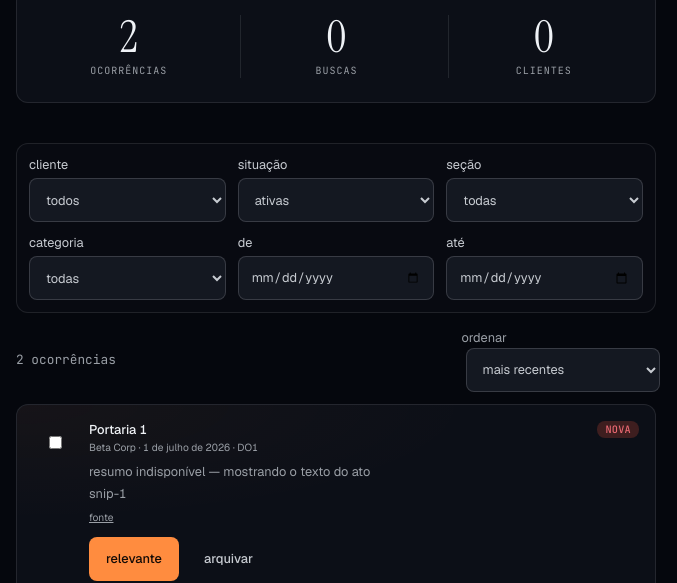
Test: a bulk dismiss removes the rows and lowers the count
The image size is (677, 583).
(page scrolled)
Expected: the text "snip-1" is shown, [89, 485, 127, 502]
Expected: the text "2 ocorrências" is shown, [16, 351, 116, 370]
Type keys "jx"
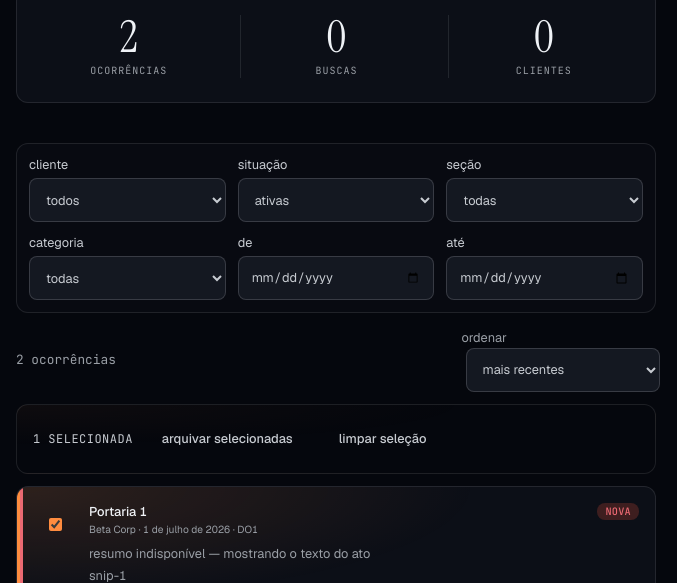
Click the button "arquivar selecionadas".
click(227, 439)  # box [145, 417, 310, 461]
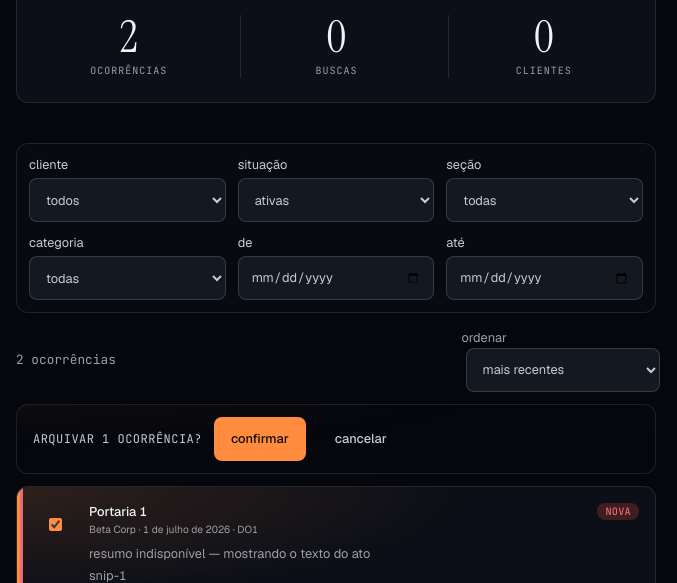
Click the button "confirmar".
click(260, 439)  # box [214, 417, 306, 461]
(page scrolled)
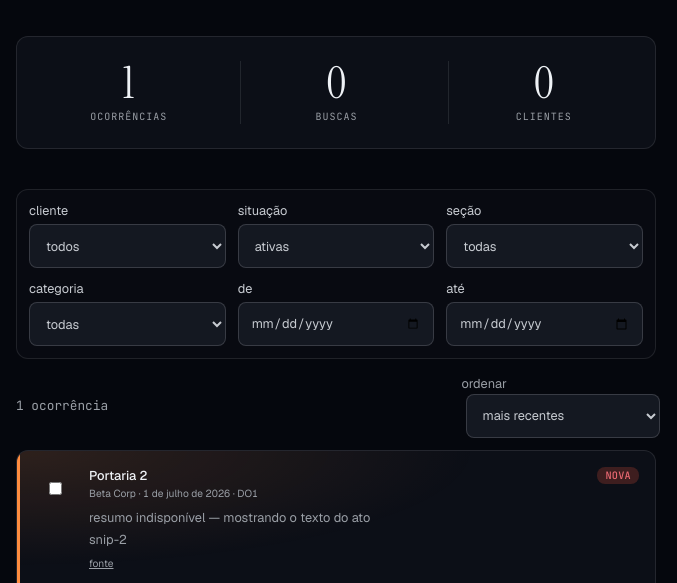
Expected: the text "1 ocorrência" is shown, [16, 397, 108, 416]
